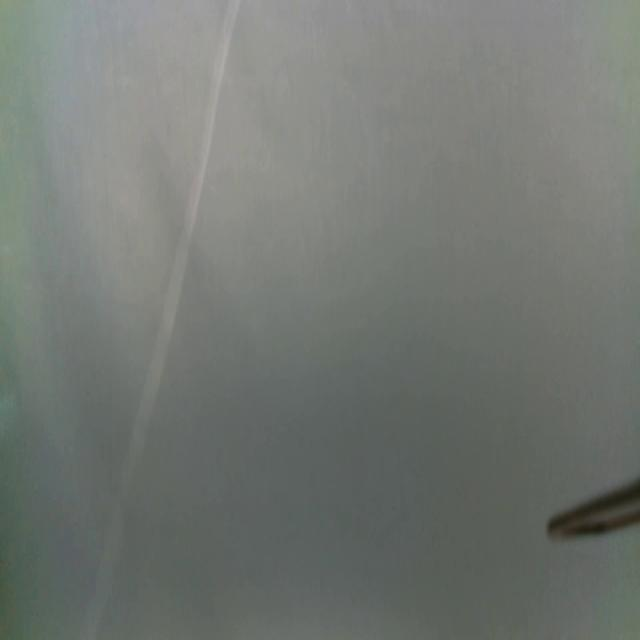crease: (76, 0, 243, 640)
